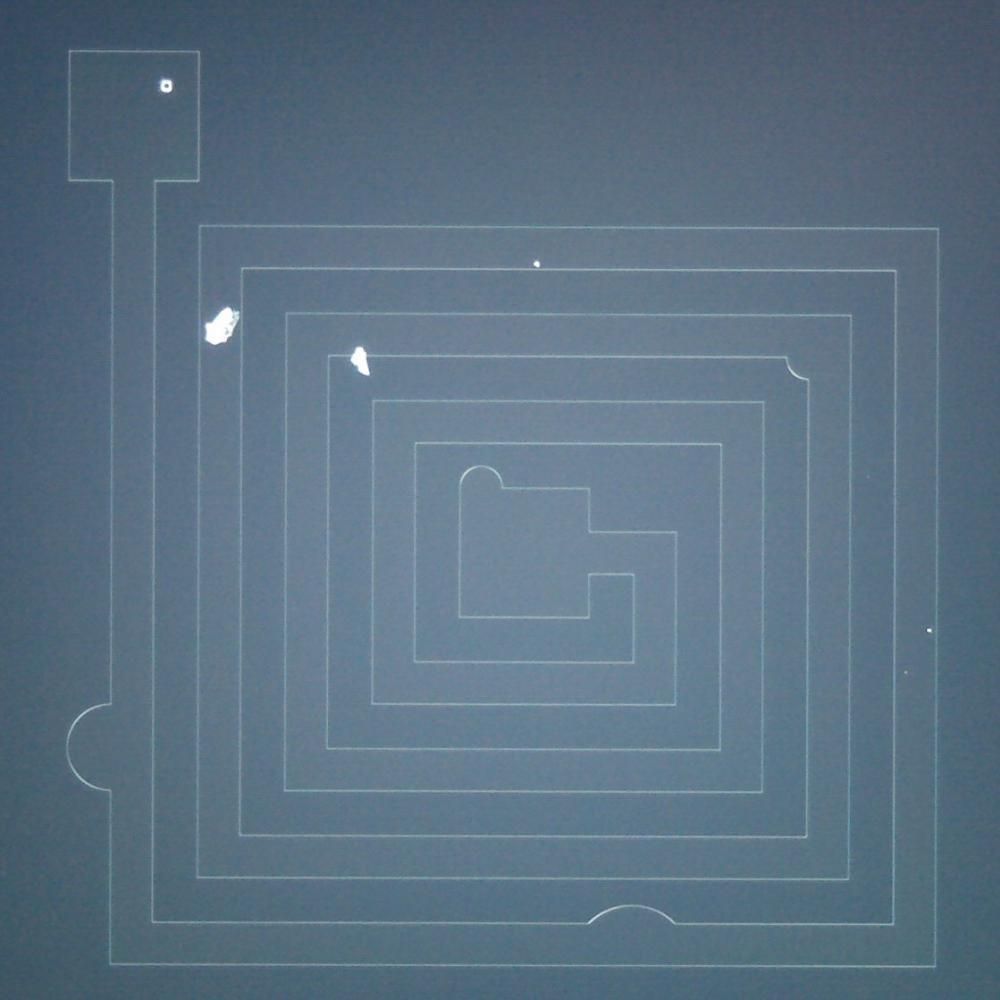curve circuit: (57, 689, 124, 808), (574, 897, 694, 943), (450, 458, 516, 501), (775, 344, 822, 394)
dot: (918, 614, 945, 644), (525, 252, 546, 278)
spot: (200, 300, 238, 350), (346, 337, 376, 383), (153, 73, 191, 105)
